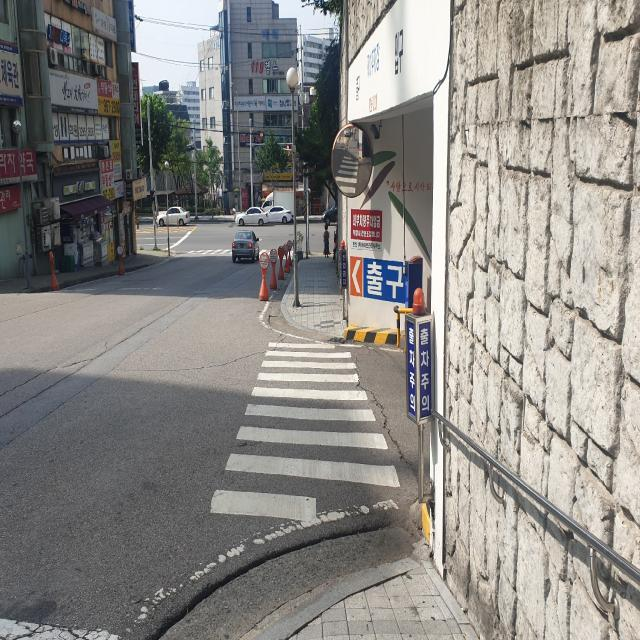횡단보도: (210, 341, 400, 522)
